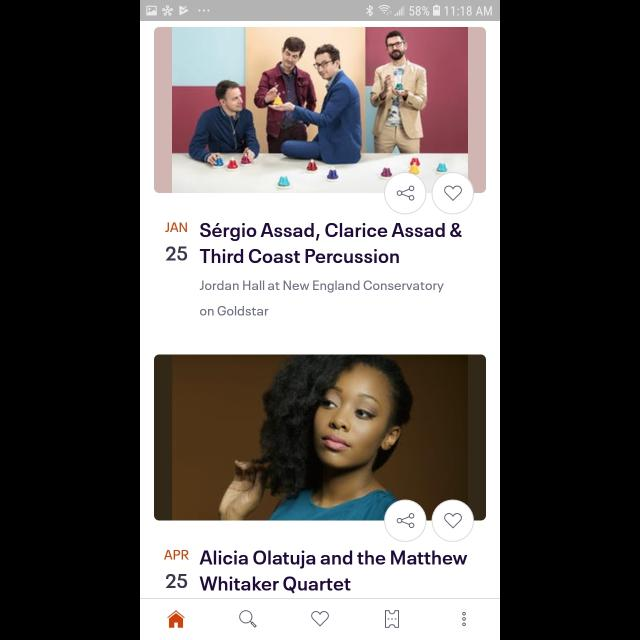icon: (385, 500, 427, 542), (432, 173, 474, 215), (384, 173, 426, 215), (432, 499, 473, 541), (167, 610, 185, 628), (239, 610, 257, 628), (311, 610, 329, 626), (384, 610, 400, 628), (462, 612, 466, 626)
image: (154, 355, 486, 521), (154, 27, 486, 193)
text: (199, 550, 467, 594), (200, 222, 462, 264), (200, 280, 444, 316), (166, 246, 188, 262), (166, 574, 188, 588), (164, 550, 190, 560), (166, 223, 188, 233)
uppertaskbar: (140, 1, 500, 22)
